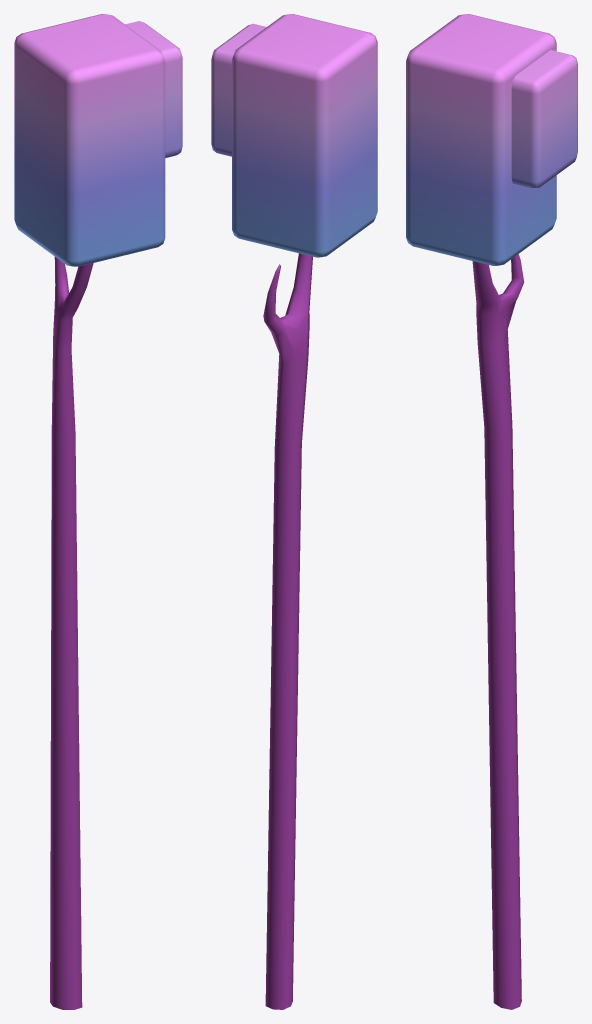
Rendered from Tree03.fbx.
The picture shows the model from 3 angles, left to right: view 1: azimuth 30°, elevation 25°; view 2: azimuth 150°, elevation 25°; view 3: azimuth 330°, elevation 25°; orthographic projection. The views are drawn at different scales.
Parts seen in each view (by area): view 1: Tree03; view 2: Tree03; view 3: Tree03.
Part boxes in pixels (x1=…): Tree03: x1=14, y1=14, x2=182, y2=1009; Tree03: x1=211, y1=14, x2=377, y2=1009; Tree03: x1=406, y1=14, x2=577, y2=1009.
Bounding box in the file's own units: 652 × 4844 × 580.
